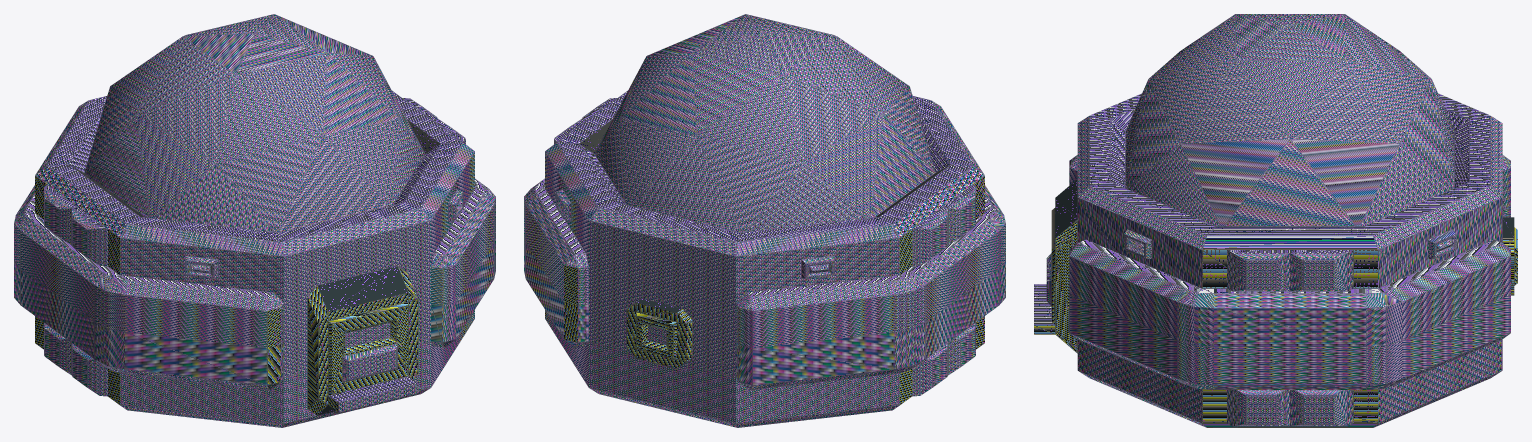
Rendered from kaykit.glb.
The picture shows the model from 3 angles, left to right: view 1: azimuth 30°, elevation 25°; view 2: azimuth 150°, elevation 25°; view 3: azimuth 270°, elevation 25°; orthographic projection. The views are drawn at different scales.
Visible parts, largest first — view 1: basemodule_E; view 2: basemodule_E; view 3: basemodule_E.
Boxes of the visible parts, <box> form: basemodule_E: <box>14,14,495,427</box>; basemodule_E: <box>524,14,1005,427</box>; basemodule_E: <box>1034,14,1517,427</box>.
Size of the model in its own units: 63936 by 47472 by 65534.
Materials: 1 (1 with a texture image).
